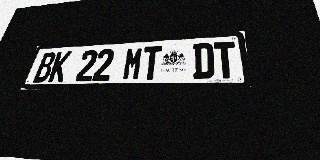2: (75, 49, 99, 81), (92, 48, 115, 81)
B: (32, 52, 57, 82)
D: (193, 42, 214, 79)
K: (47, 51, 72, 82)
M: (121, 47, 144, 81)
T: (214, 41, 238, 79), (140, 46, 162, 80)
